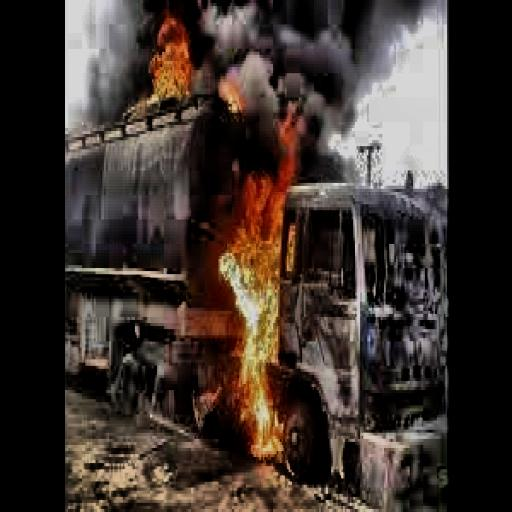fire: (215, 158, 312, 472), (138, 9, 205, 107), (215, 70, 253, 128)
